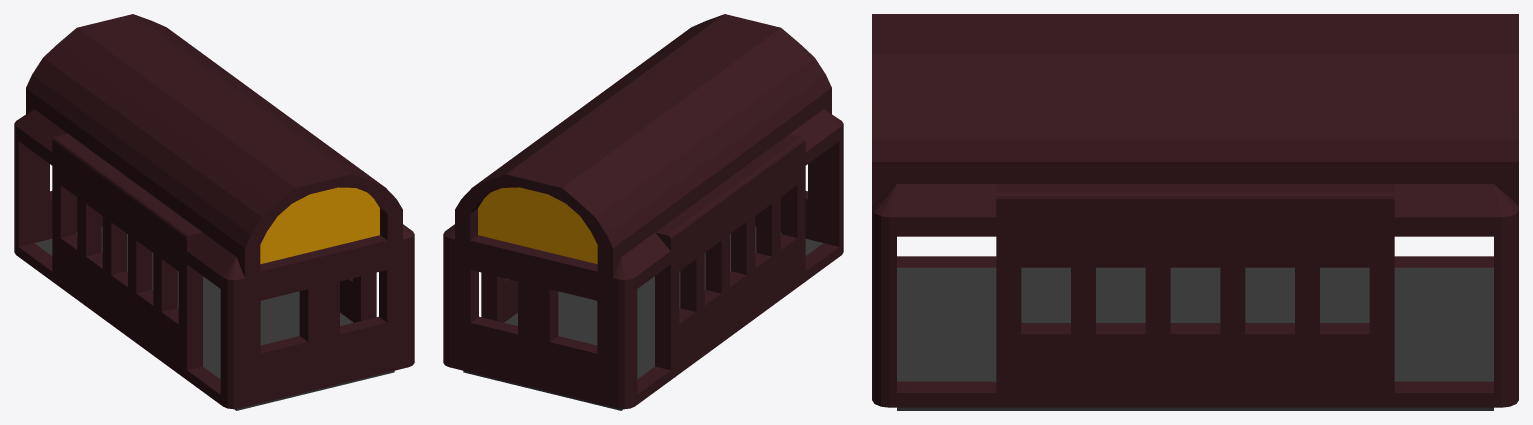
File: FMP_TramCart.fbx
3 renders of one model, left to right at view 1: azimuth 30°, elevation 25°; view 2: azimuth 150°, elevation 25°; view 3: azimuth 270°, elevation 25°, orthographic. The views are drawn at different scales.
Visible parts, largest first — view 1: TramCartBody; view 2: TramCartBody; view 3: TramCartBody.
Part boxes in pixels (left/top/right/bottom): TramCartBody: left=14, top=14, right=414, bottom=410; TramCartBody: left=443, top=14, right=843, bottom=410; TramCartBody: left=872, top=14, right=1518, bottom=410.
Bounding box in the file's own units: 4 × 8 × 4.36.
